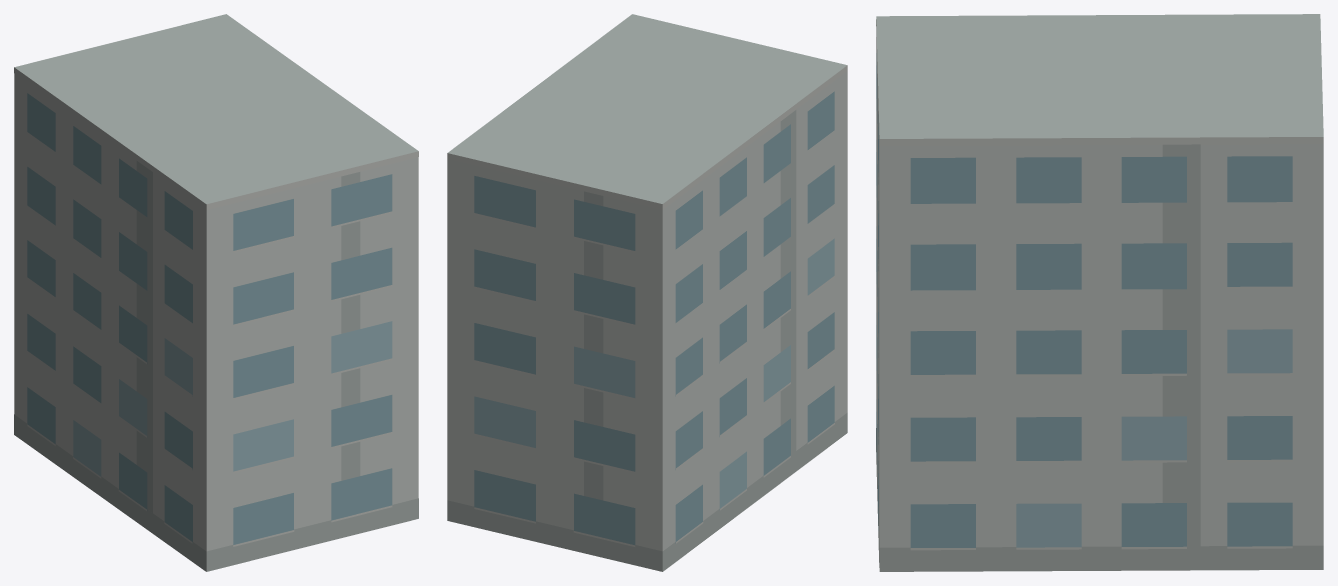
File: survey-upis-32620637.glb
The picture shows the model from 3 angles, left to right: view 1: azimuth 30°, elevation 25°; view 2: azimuth 150°, elevation 25°; view 3: azimuth 270°, elevation 25°; orthographic projection. The views are drawn at different scales.
Parts seen in each view (by area): view 1: survey-upis-32620637.tmp; view 2: survey-upis-32620637.tmp; view 3: survey-upis-32620637.tmp.
Boxes of the visible parts, x1,y1,x2,y2 form: survey-upis-32620637.tmp: [14, 14, 418, 571]; survey-upis-32620637.tmp: [447, 14, 847, 571]; survey-upis-32620637.tmp: [876, 14, 1323, 571].
Size of the model in its own units: 9.36 by 15.1 by 14.16.
